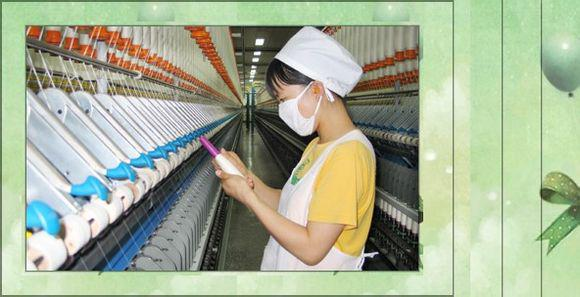OK: (276, 79, 325, 138)
